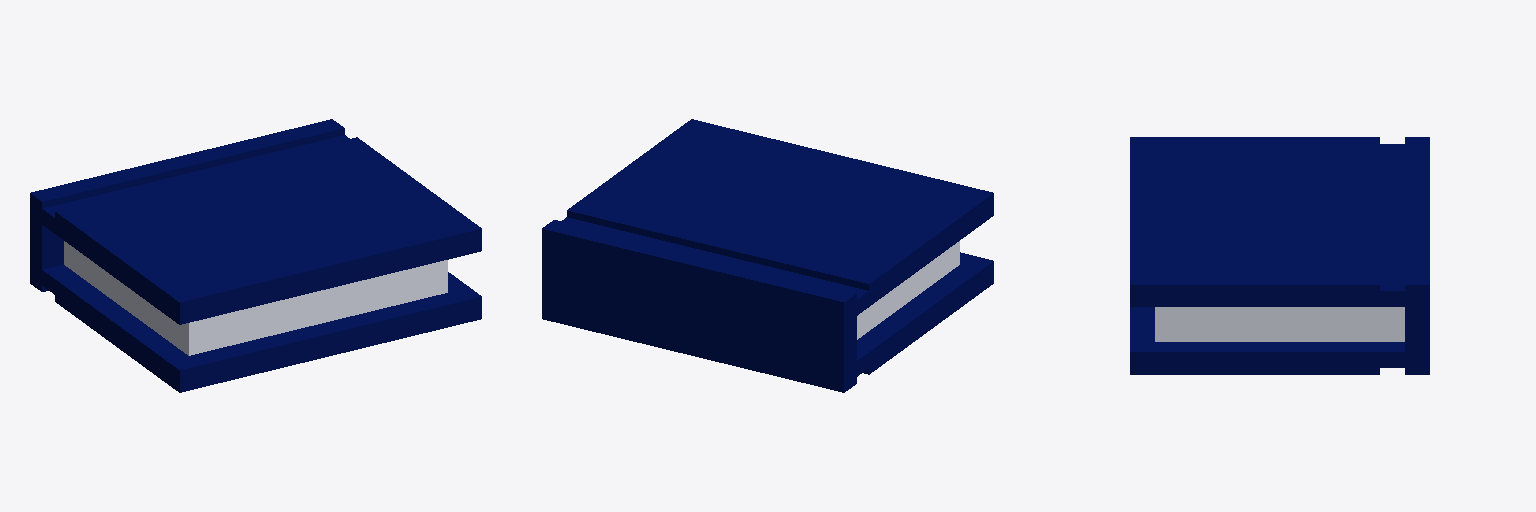
The model's file is Book2.obj.
3 views of the same model, side by side, from view 1: azimuth 30°, elevation 25°; view 2: azimuth 150°, elevation 25°; view 3: azimuth 270°, elevation 25° (orthographic).
Visible parts, largest first — view 1: block; view 2: block; view 3: block.
Boxes of the visible parts, box(x1,y1,x2,y2) form: block: box(30, 119, 481, 392); block: box(542, 119, 993, 392); block: box(1130, 137, 1429, 374).
Size of the model in its own units: 0.63 by 0.18 by 0.54.